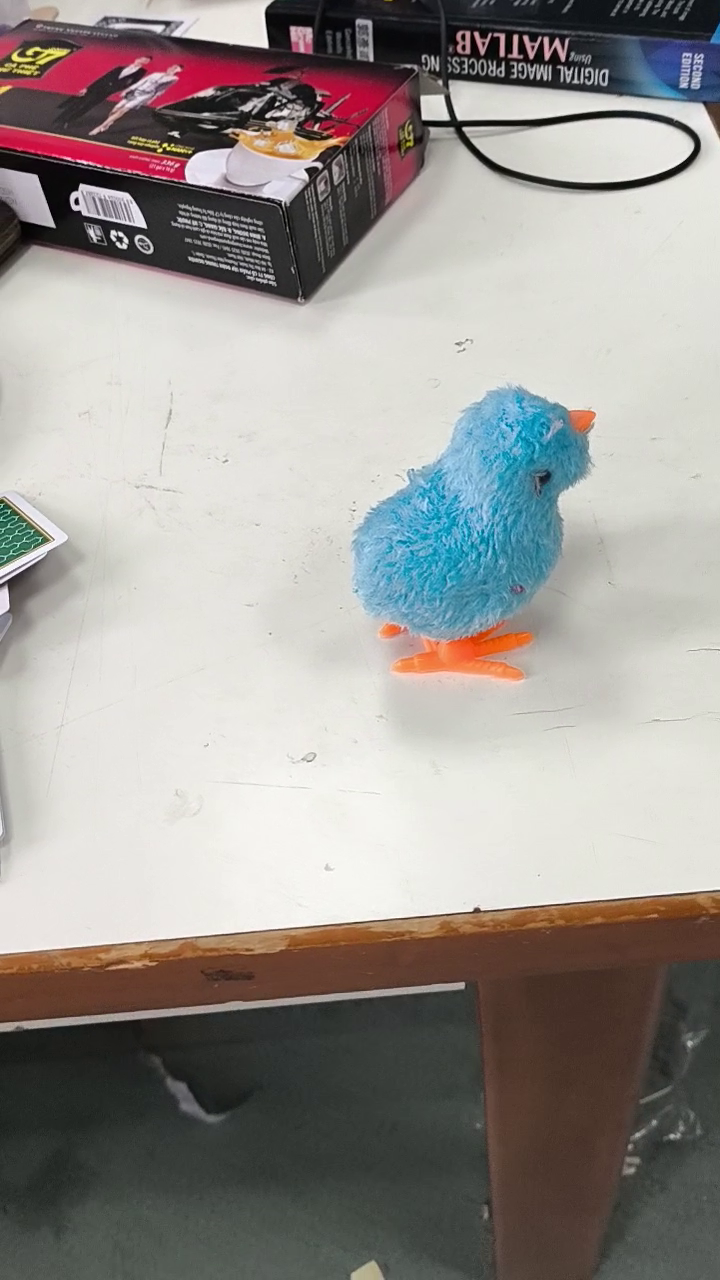blue chicken: (345, 381, 600, 685)
